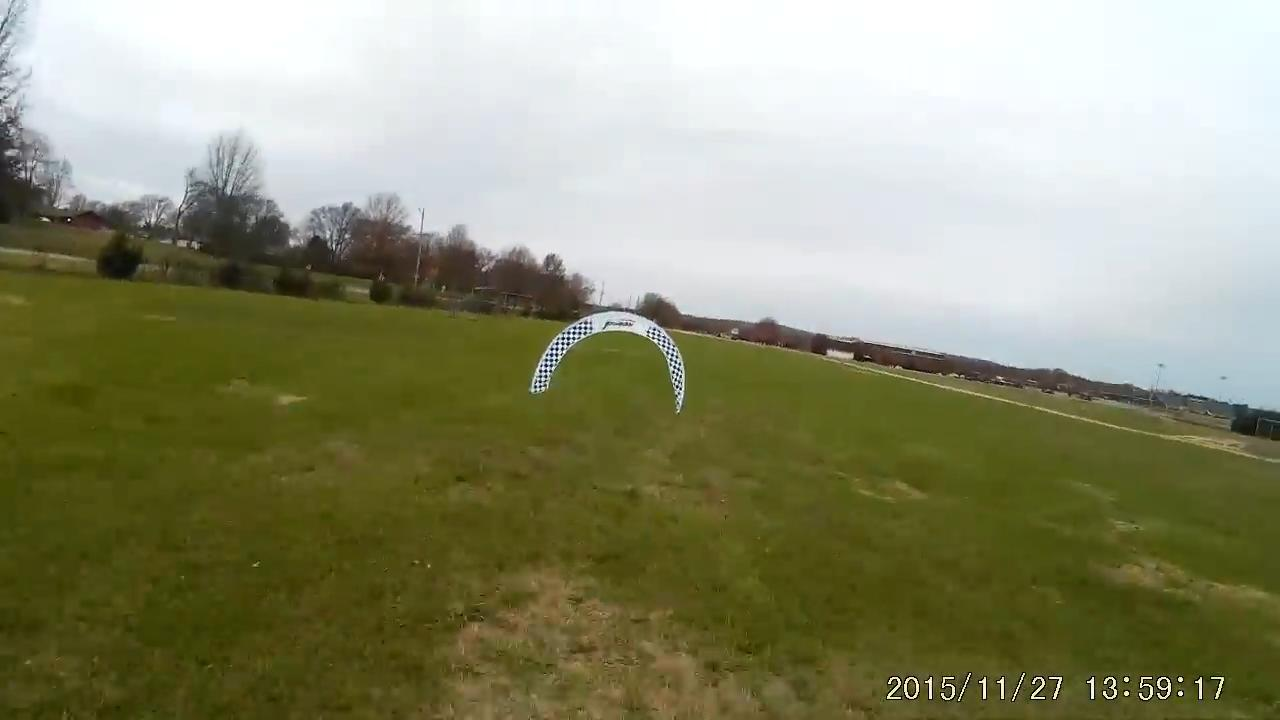gate: (528, 309, 689, 420)
